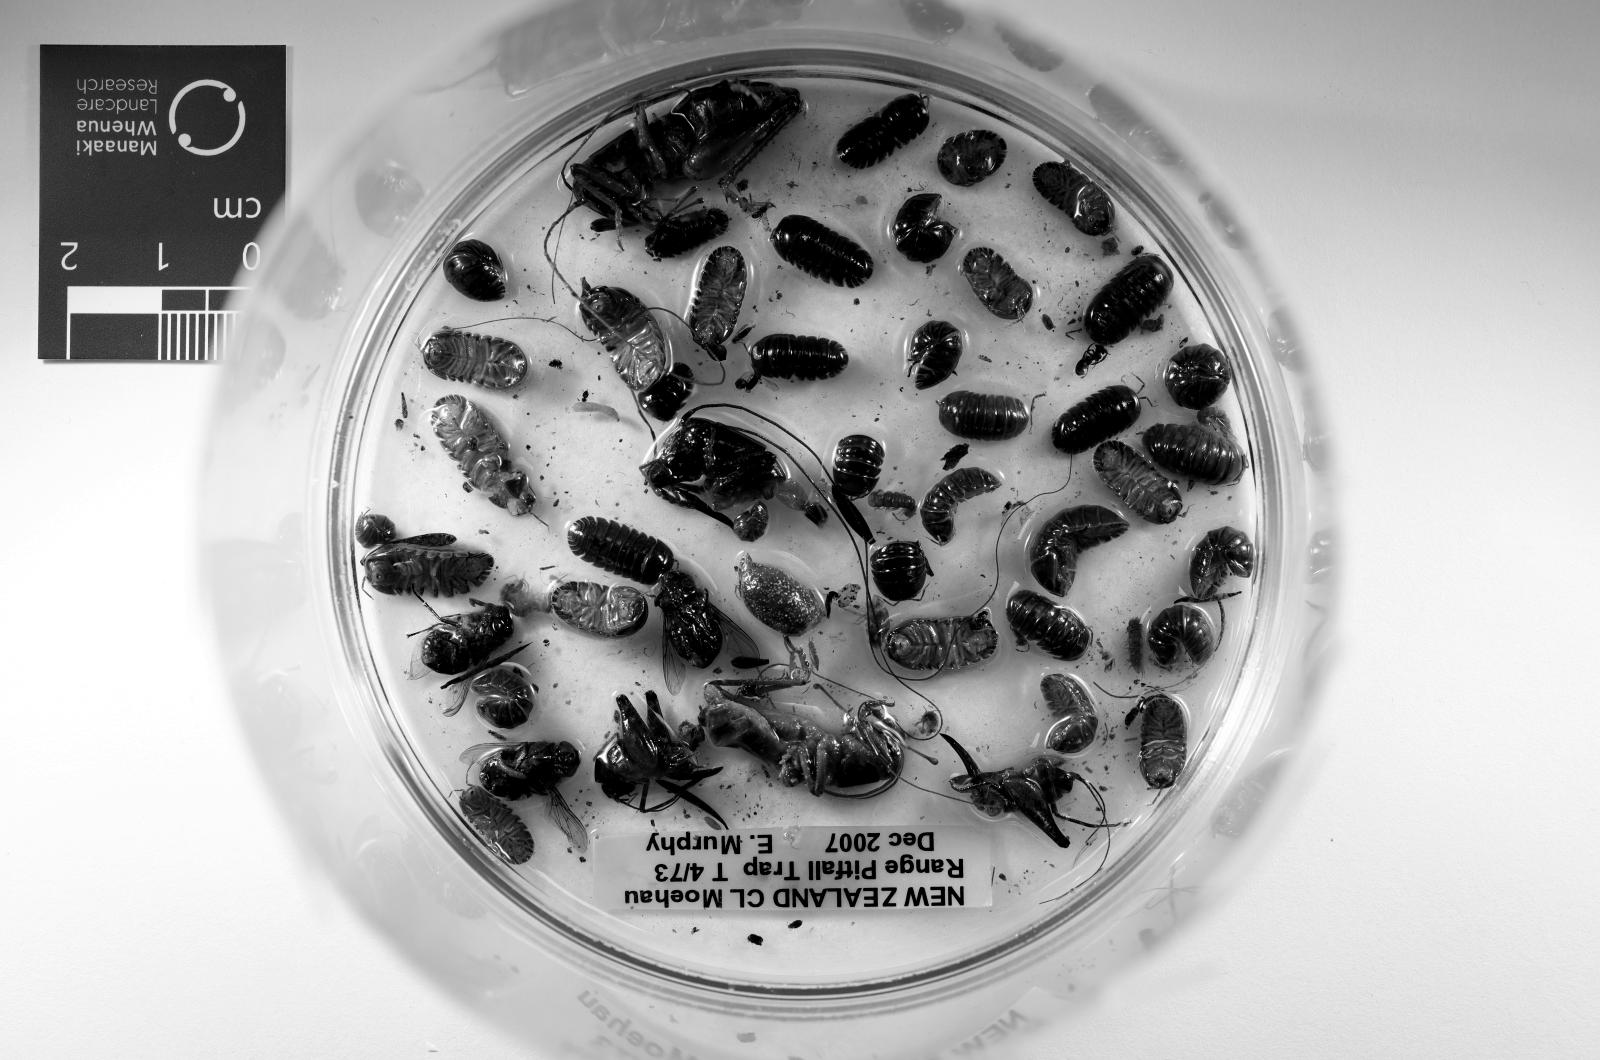amphipoda: (500, 577, 550, 618)
diptera: (459, 742, 588, 851), (656, 571, 759, 696), (409, 602, 512, 717), (744, 373, 778, 392)
formicidae: (1075, 344, 1106, 376)
isopoda: (432, 394, 535, 516), (578, 277, 669, 397), (1031, 506, 1128, 596), (1084, 254, 1172, 344), (772, 214, 872, 289), (1094, 441, 1181, 525), (569, 516, 675, 584), (885, 608, 997, 671), (363, 543, 494, 596), (687, 245, 747, 360), (837, 93, 928, 168), (1031, 161, 1115, 237), (422, 329, 529, 388), (1144, 426, 1246, 485), (919, 468, 1000, 543), (1006, 590, 1090, 661), (459, 786, 535, 864), (1054, 386, 1141, 453), (550, 581, 650, 636), (959, 248, 1035, 319), (750, 332, 847, 382), (938, 392, 1031, 441), (1191, 528, 1254, 600), (1162, 344, 1231, 409), (894, 193, 957, 264), (643, 208, 728, 260), (1041, 674, 1097, 751), (1141, 696, 1187, 789), (472, 665, 538, 730), (1147, 606, 1216, 667), (443, 239, 506, 302), (938, 130, 1006, 187), (909, 319, 963, 388), (872, 541, 931, 602), (831, 435, 885, 497), (641, 363, 694, 422), (356, 512, 397, 547), (734, 503, 769, 541)
orthoptera: (572, 80, 803, 230), (697, 671, 906, 795), (944, 736, 1122, 848), (641, 403, 809, 522), (594, 692, 721, 823)
